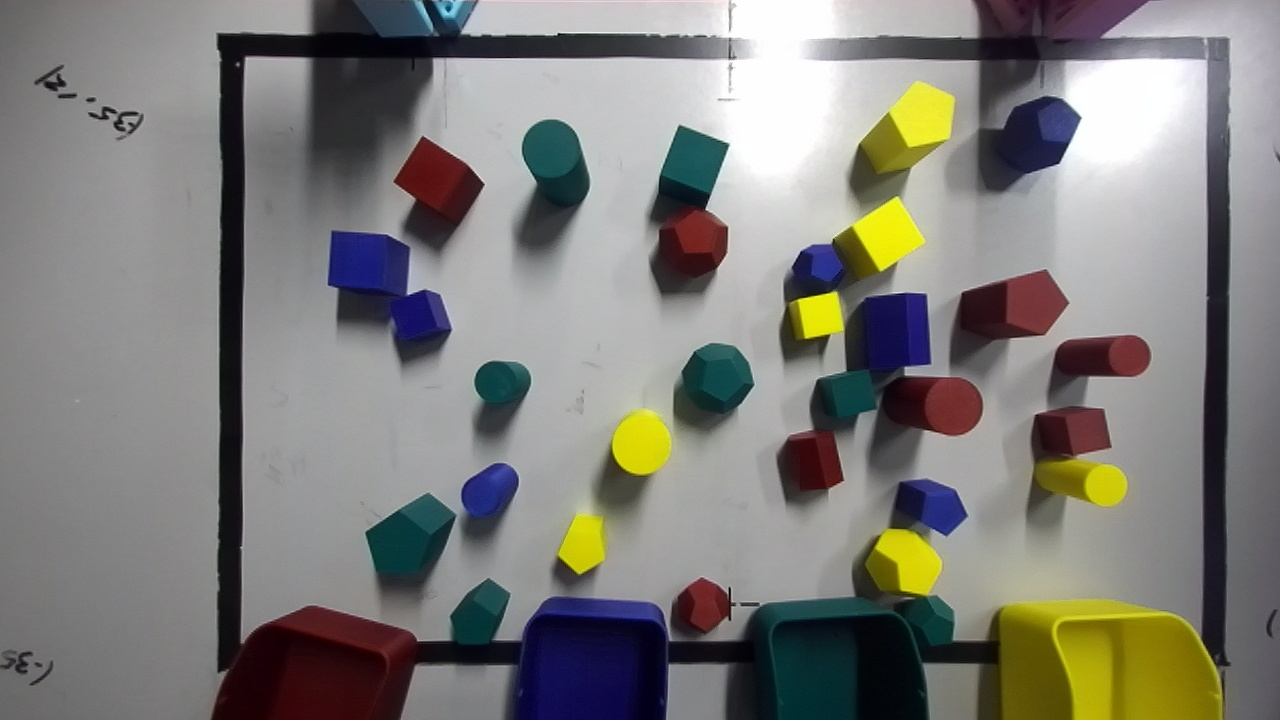bin: (998, 600, 1222, 719), (211, 606, 417, 719), (752, 598, 928, 719), (514, 597, 667, 719)
cube: (394, 136, 483, 222), (833, 197, 924, 277), (659, 125, 728, 208), (328, 230, 409, 295), (1034, 407, 1110, 455), (389, 290, 451, 341), (815, 369, 876, 417), (787, 292, 843, 339)
cylinder: (882, 376, 982, 435), (522, 119, 588, 206), (1033, 458, 1126, 505), (1054, 335, 1150, 376), (611, 409, 670, 475), (461, 463, 518, 516), (474, 361, 531, 404)
dodecahedron: (996, 96, 1080, 172), (866, 529, 941, 595), (682, 343, 753, 412), (659, 207, 727, 276), (894, 595, 954, 651), (672, 577, 730, 631), (791, 244, 844, 293)
hexagonal: (860, 81, 954, 172), (959, 270, 1068, 339), (365, 492, 455, 574), (859, 292, 930, 370), (894, 479, 966, 535), (450, 578, 509, 644), (784, 430, 843, 489), (557, 514, 605, 573)
